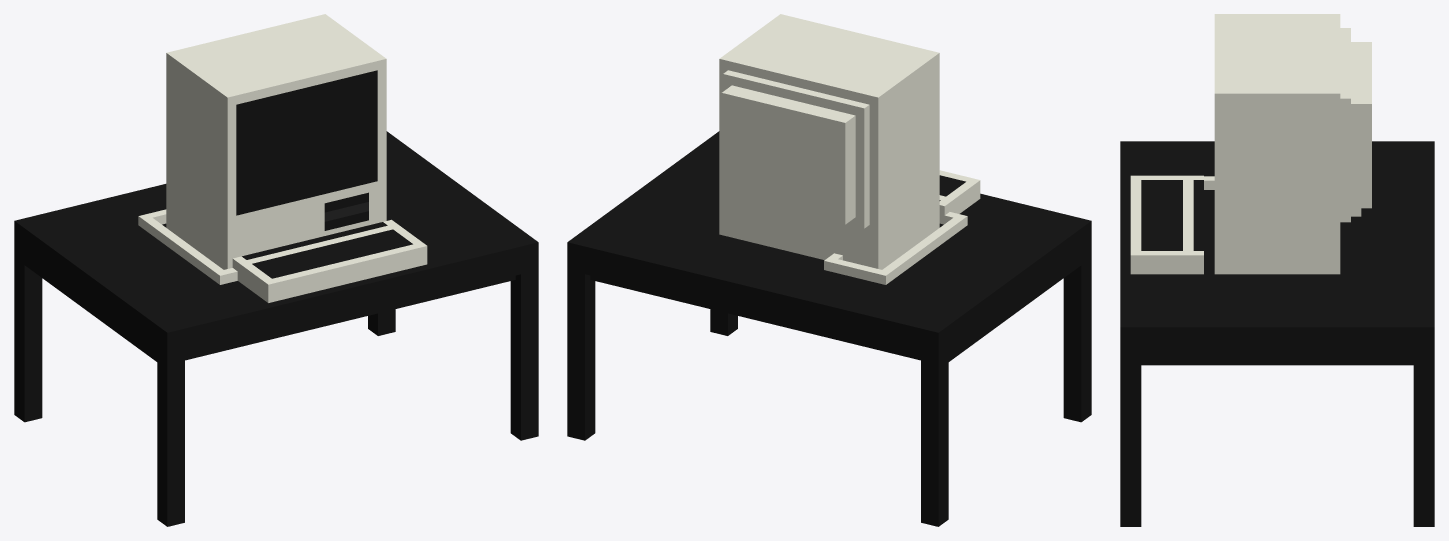
The model's file is computertable.obj.
The picture shows the model from 3 angles, left to right: view 1: azimuth 30°, elevation 25°; view 2: azimuth 150°, elevation 25°; view 3: azimuth 270°, elevation 25°; orthographic projection. The views are drawn at different scales.
Size of the model in its own units: 4.2 by 4 by 3.
Materials: 1 (1 with a texture image).
